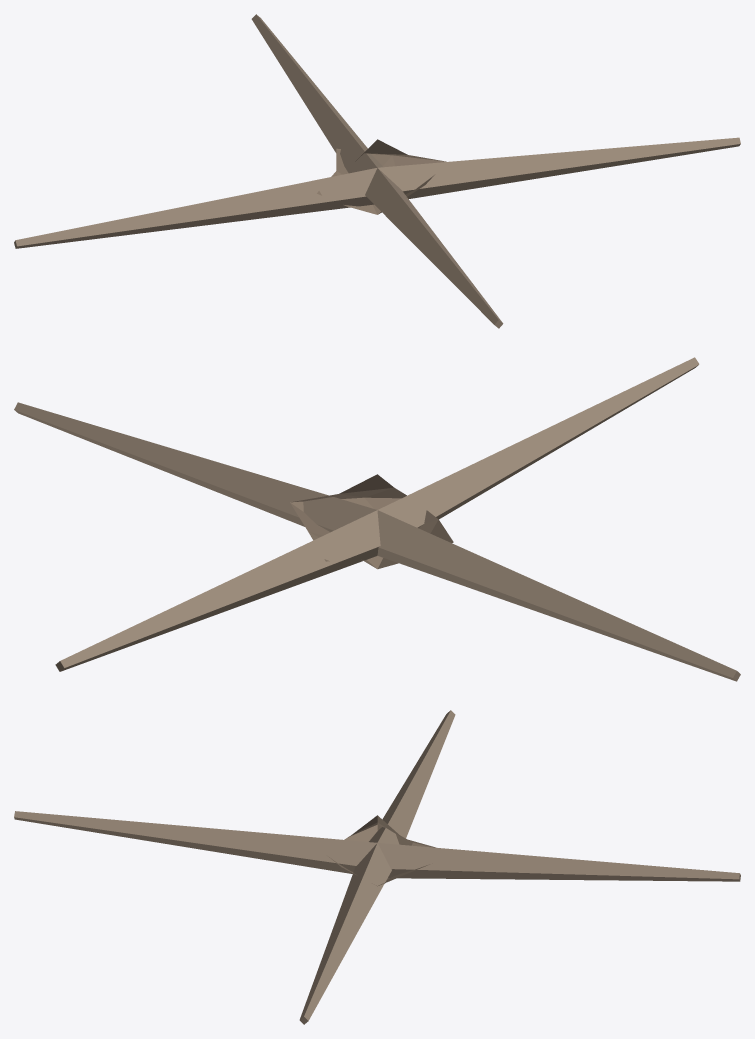
3 renders of one model, top to bottom at view 1: azimuth 30°, elevation 25°; view 2: azimuth 150°, elevation 25°; view 3: azimuth 270°, elevation 25°, orthographic. The views are drawn at different scales.
Visible parts, largest first — view 1: lod0; view 2: lod0; view 3: lod0.
Boxes of the visible parts, box(x1,y1,x2,y2) form: lod0: box(14, 14, 740, 328); lod0: box(14, 357, 740, 681); lod0: box(14, 710, 740, 1024).
Size of what is drawn, in the model's own units: 1.87 by 0.208 by 1.87.
